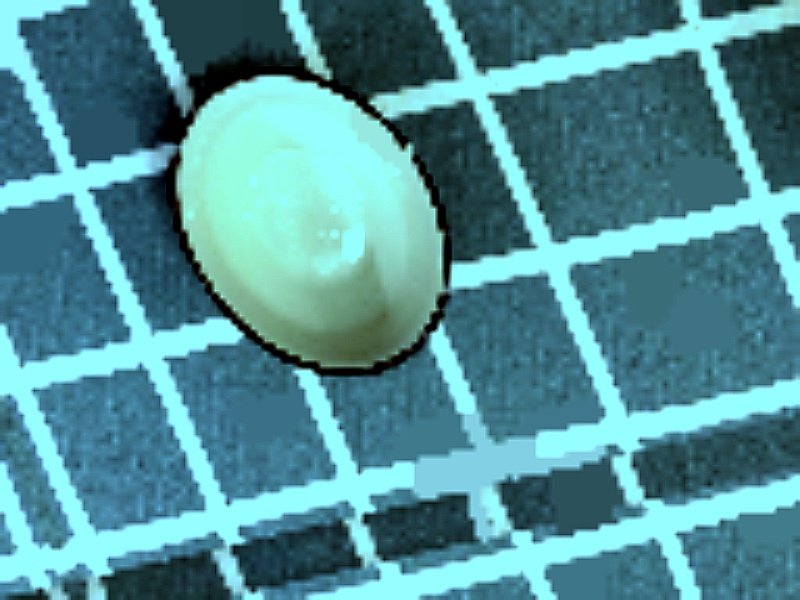bowl_small: (111, 31, 508, 411)
